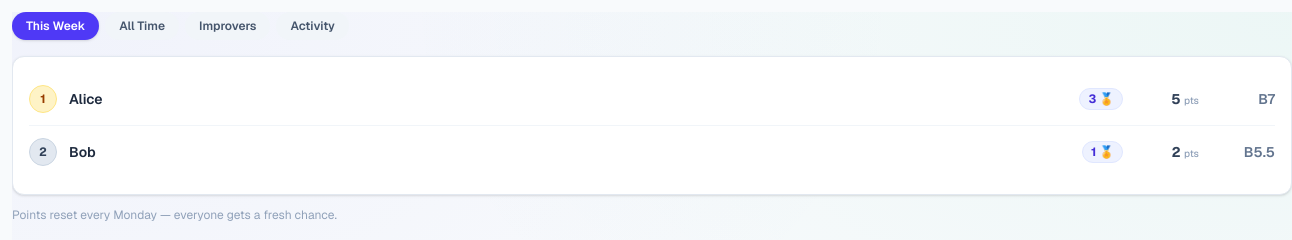
Test: CommunityTabs › switches to the All Time board
This screenshot has width=1292, height=240.
Click the button "All Time". click: (142, 26)
box: [105,12,179,40]
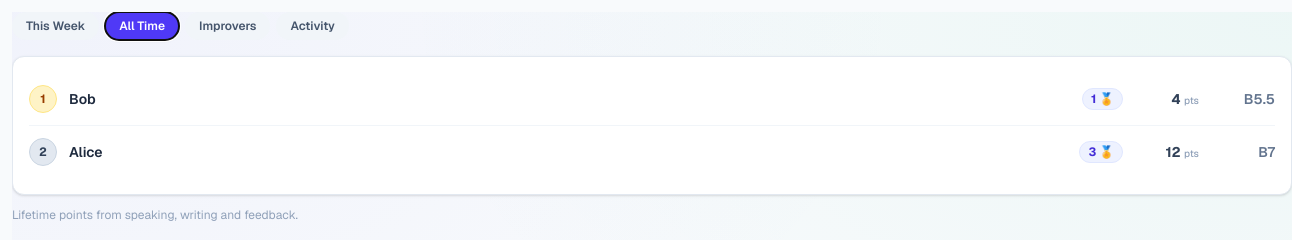
Now the text "Lifetime points from speaking, writing and feedback." is shown, box [12,207,298,223]
